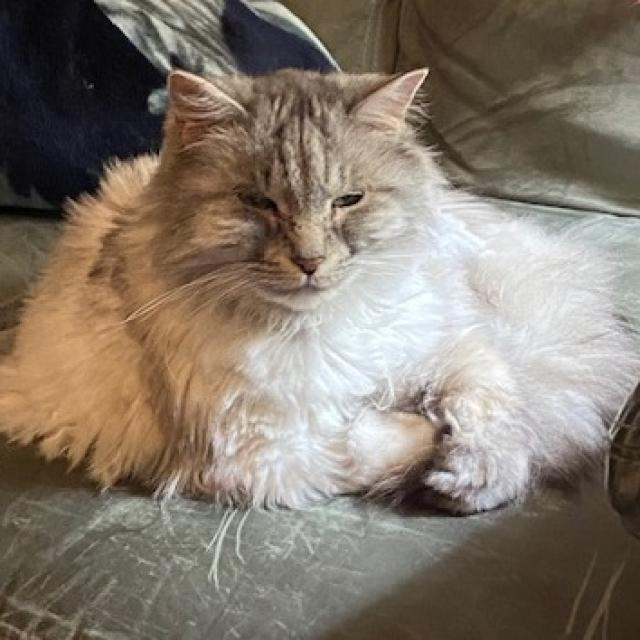maine_coon_cat: (119, 51, 475, 352)
